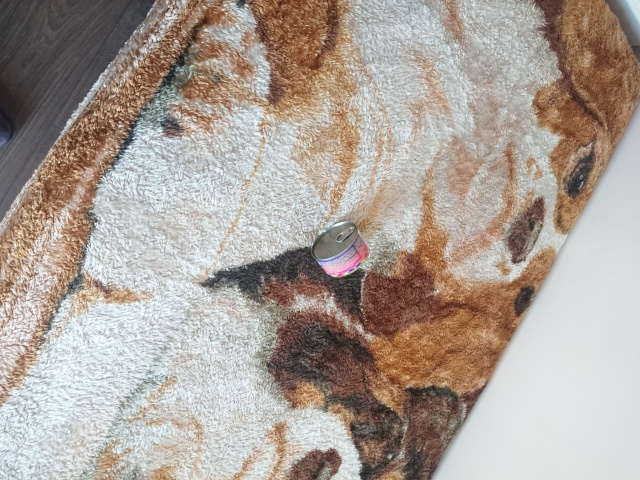Giana Tuna Salad Mexico 185g: (309, 219, 373, 280)
